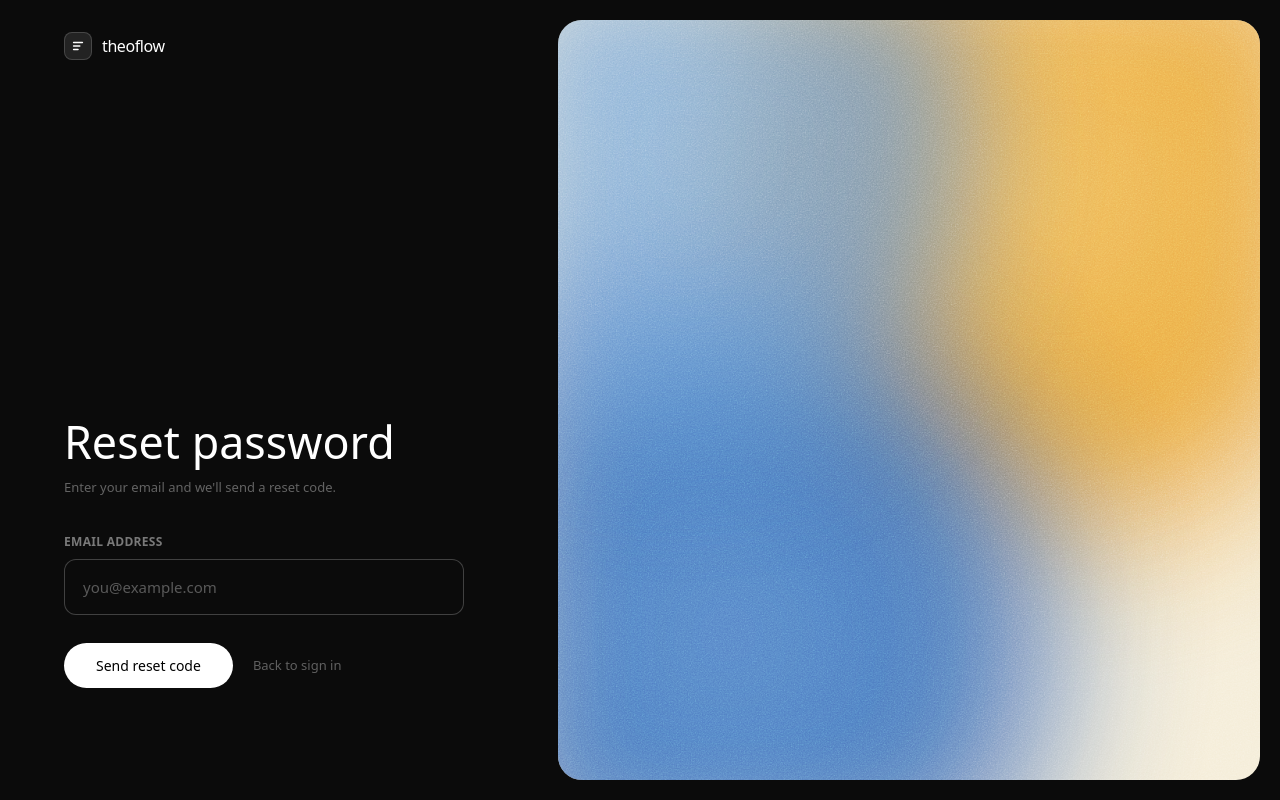
Test: ForgotPasswordPage › Phase 1 — Email entry › shows error when email format is invalid
Type "not-an-email" into the field with placeholder "you@example.com".
click(264, 587); type("not-an-email")  # box [64,559,464,615]
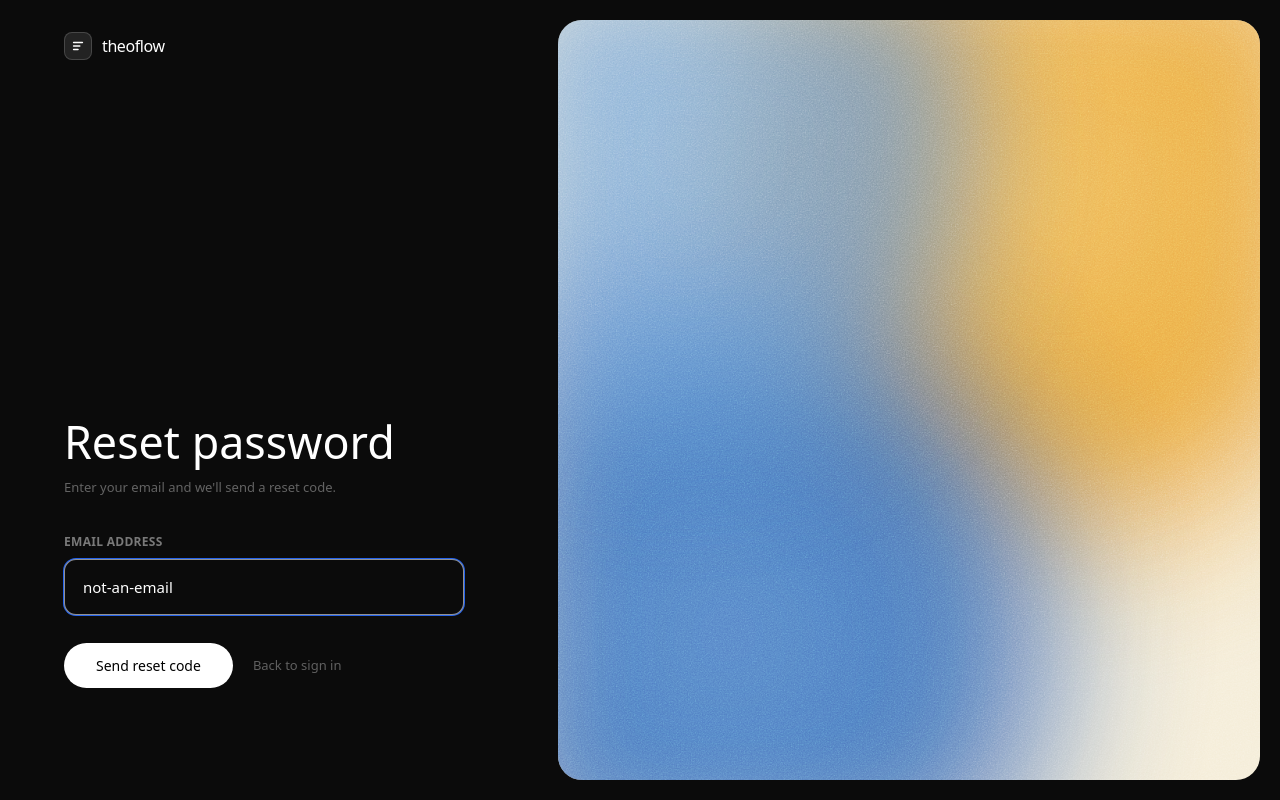
Click the button "Send reset code".
click(148, 666)  # box [64,643,233,688]
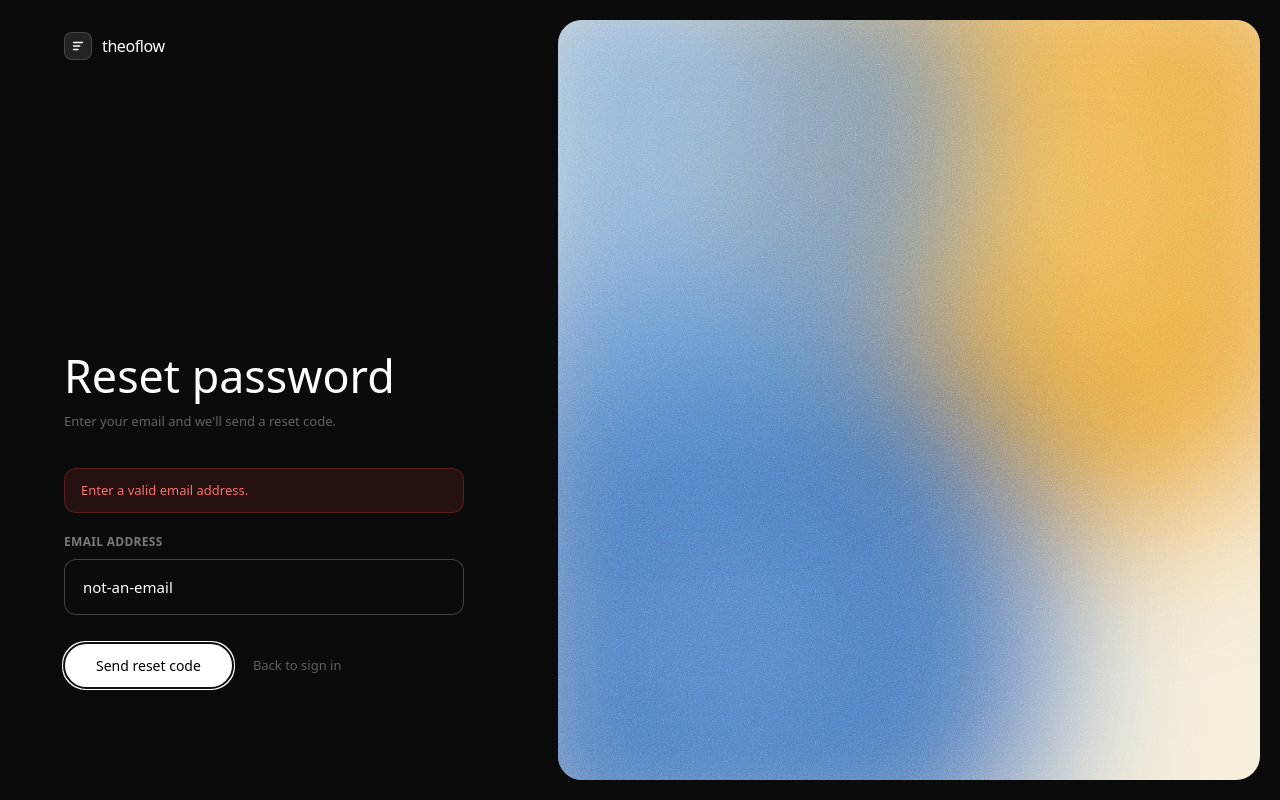
expect the message shows "valid email address": met, box [81,480,248,498]
